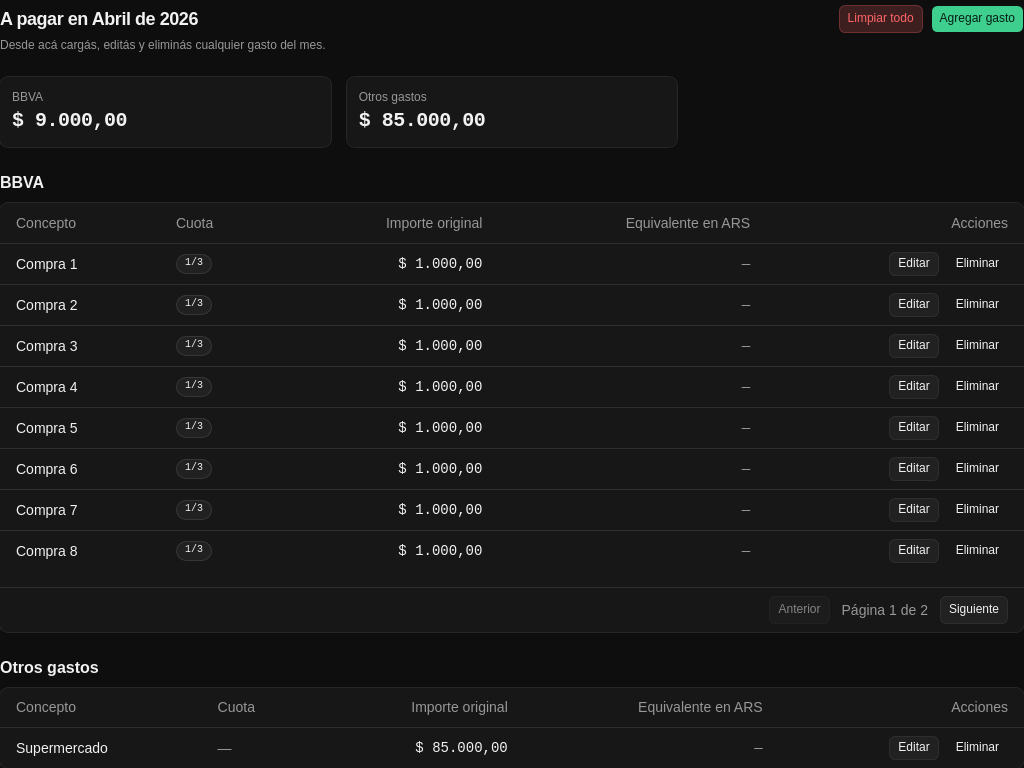
MonthlyBudgetPage: acciones sobre los gastos del mes › pagina cada grupo por separado y no muestra controles si cabe en una página
This screenshot has width=1024, height=768.
(page scrolled)
Expected: the text "Compra 1" is shown, [0,244,160,284]
Expected: the text "Compra 8" is shown, [0,530,160,570]
Click the button "Siguiente" at (974, 610), box [940,596,1008,624]
(page scrolled)
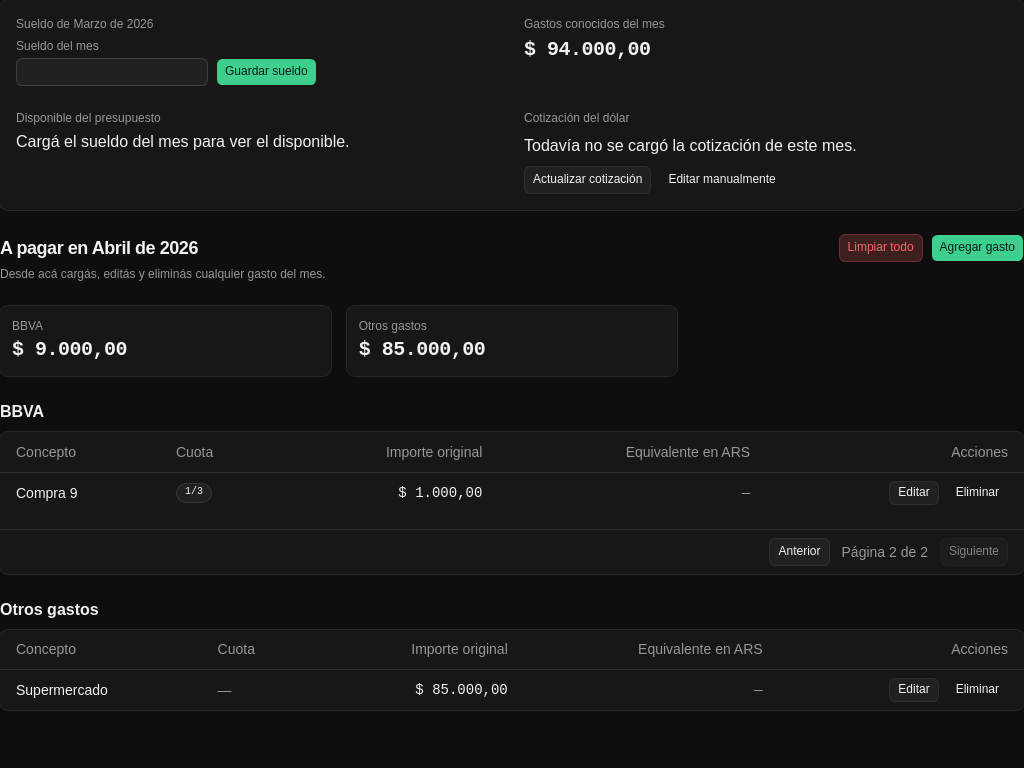
Now the text "Compra 9" is shown, box [0,472,160,512]
Now the text "Compra 1" is gone
Now the text "Página 2 de 2" is shown, box [842,542,928,562]
